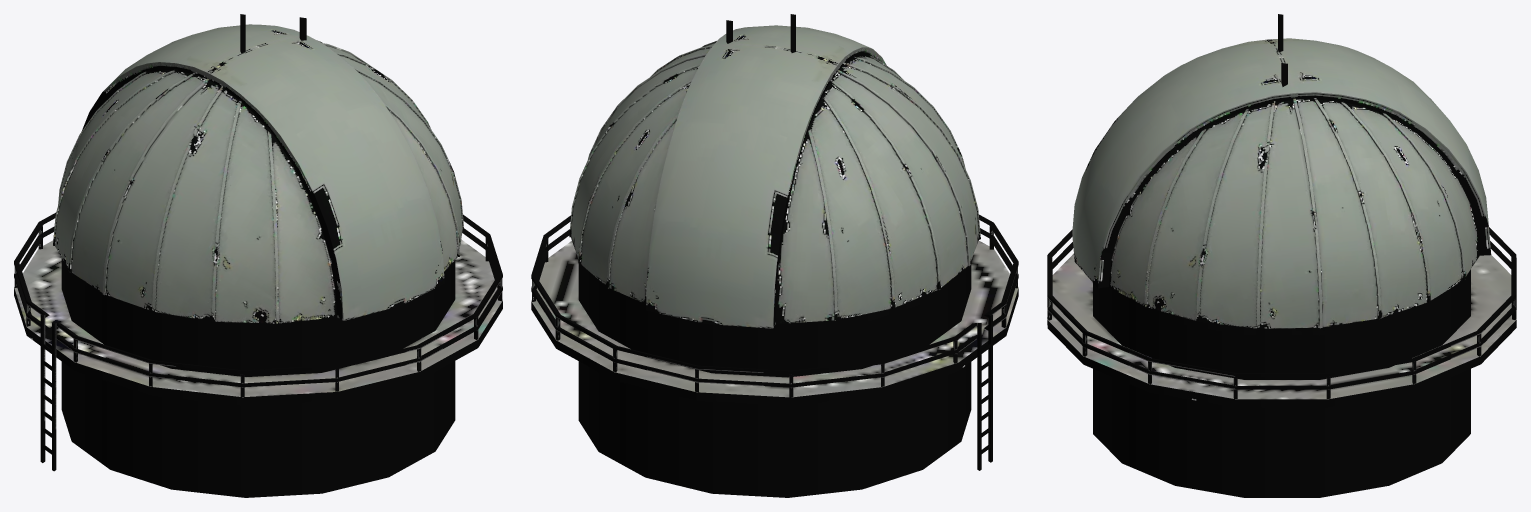
The picture shows the model from 3 angles, left to right: view 1: azimuth 30°, elevation 25°; view 2: azimuth 150°, elevation 25°; view 3: azimuth 270°, elevation 25°; orthographic projection. The views are drawn at different scales.
Parts seen in each view (by area): view 1: body0_model0_lod0_mesh0; view 2: body0_model0_lod0_mesh0; view 3: body0_model0_lod0_mesh0.
Boxes of the visible parts, box(x1,y1,x2,y2) form: body0_model0_lod0_mesh0: box(14, 14, 502, 497); body0_model0_lod0_mesh0: box(531, 14, 1018, 497); body0_model0_lod0_mesh0: box(1047, 14, 1516, 497).
Bounding box in the file's own units: 628 × 579 × 623.
1 material, 1 textured.
